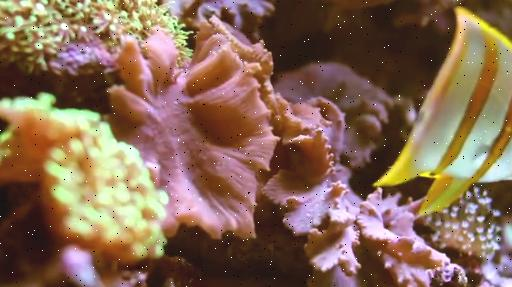Fish: (375, 6, 511, 215)
